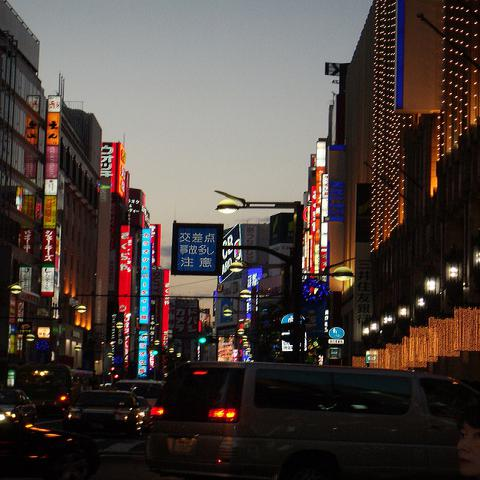car: (146, 361, 479, 479), (68, 388, 150, 438), (108, 377, 167, 409)
